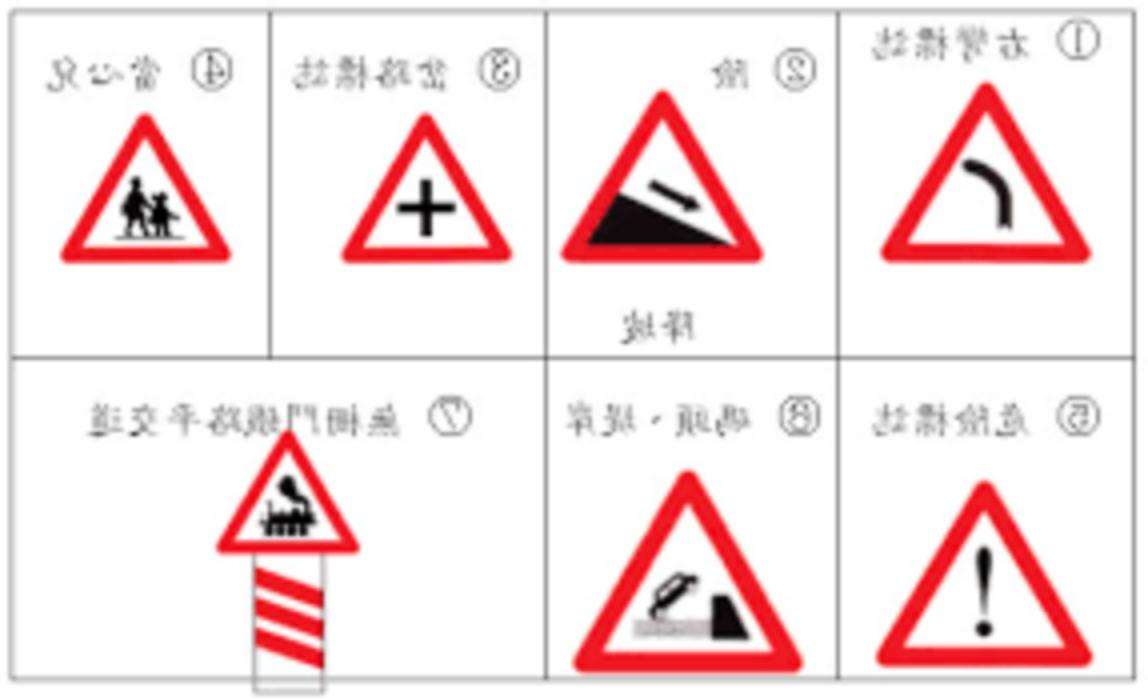fork_road: (314, 99, 532, 272)
